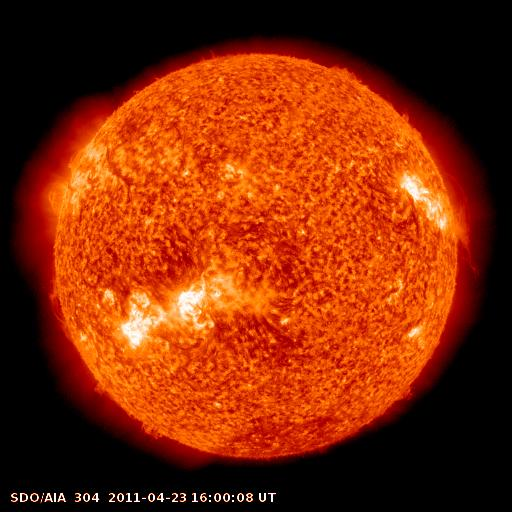prominence: (443, 171, 492, 281), (44, 271, 85, 345), (323, 54, 373, 95), (129, 412, 174, 448), (388, 377, 427, 412), (84, 373, 124, 405), (397, 106, 426, 145)
